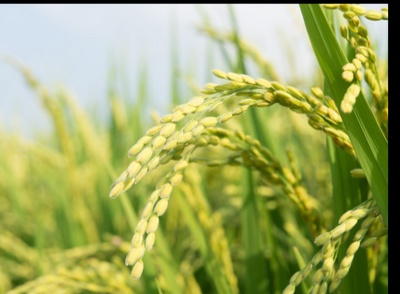rice: (104, 55, 351, 277)
